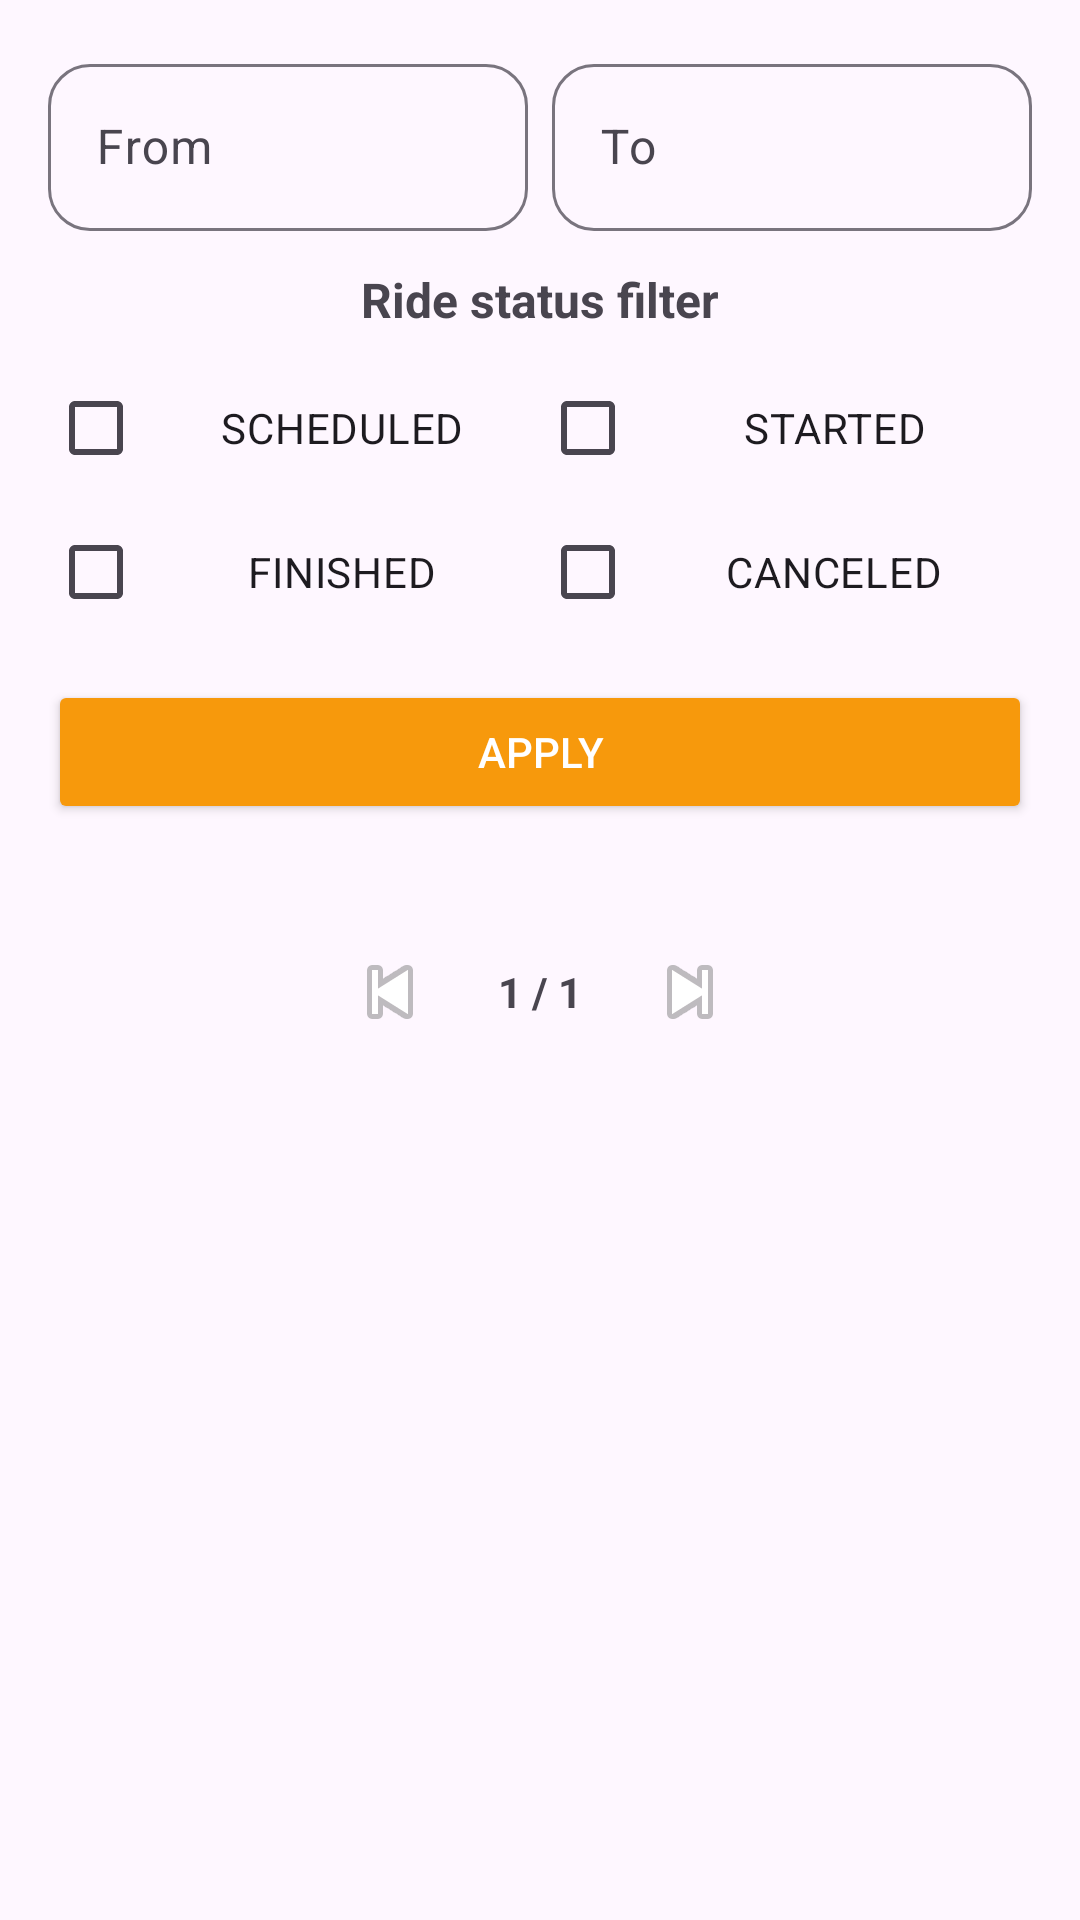

Where to tap for icons on this 1080 × 1920 app screen, as [x,y]:
Next: [690,992]
Previous: [390,992]
